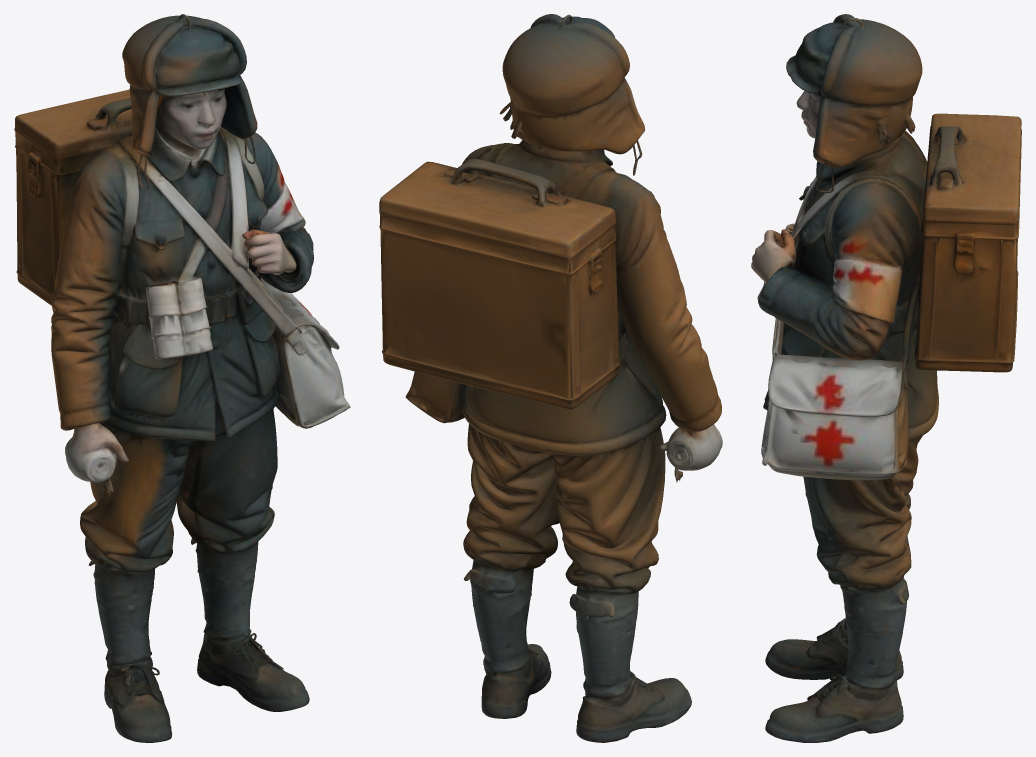
Rendered from char_medic.glb.
3 renders of one model, left to right at view 1: azimuth 30°, elevation 25°; view 2: azimuth 150°, elevation 25°; view 3: azimuth 270°, elevation 25°, orthographic. The views are drawn at different scales.
Parts seen in each view (by area): view 1: material; view 2: material; view 3: material.
Part boxes in pixels (x1=…): material: x1=14, y1=14, x2=350, y2=742; material: x1=379, y1=14, x2=722, y2=742; material: x1=751, y1=14, x2=1021, y2=742.
Size of the model in its own units: 0.4701 by 1.13 by 0.4073.
Materials: 1 (1 with a texture image).
